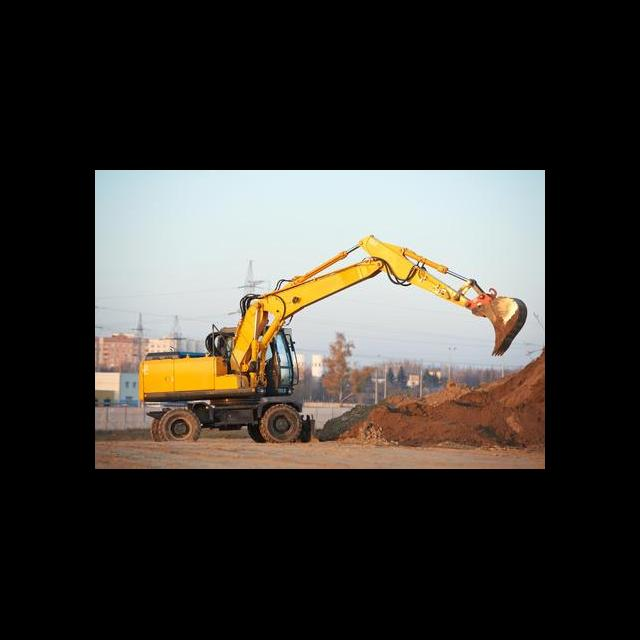Excavator: (135, 234, 529, 444)
